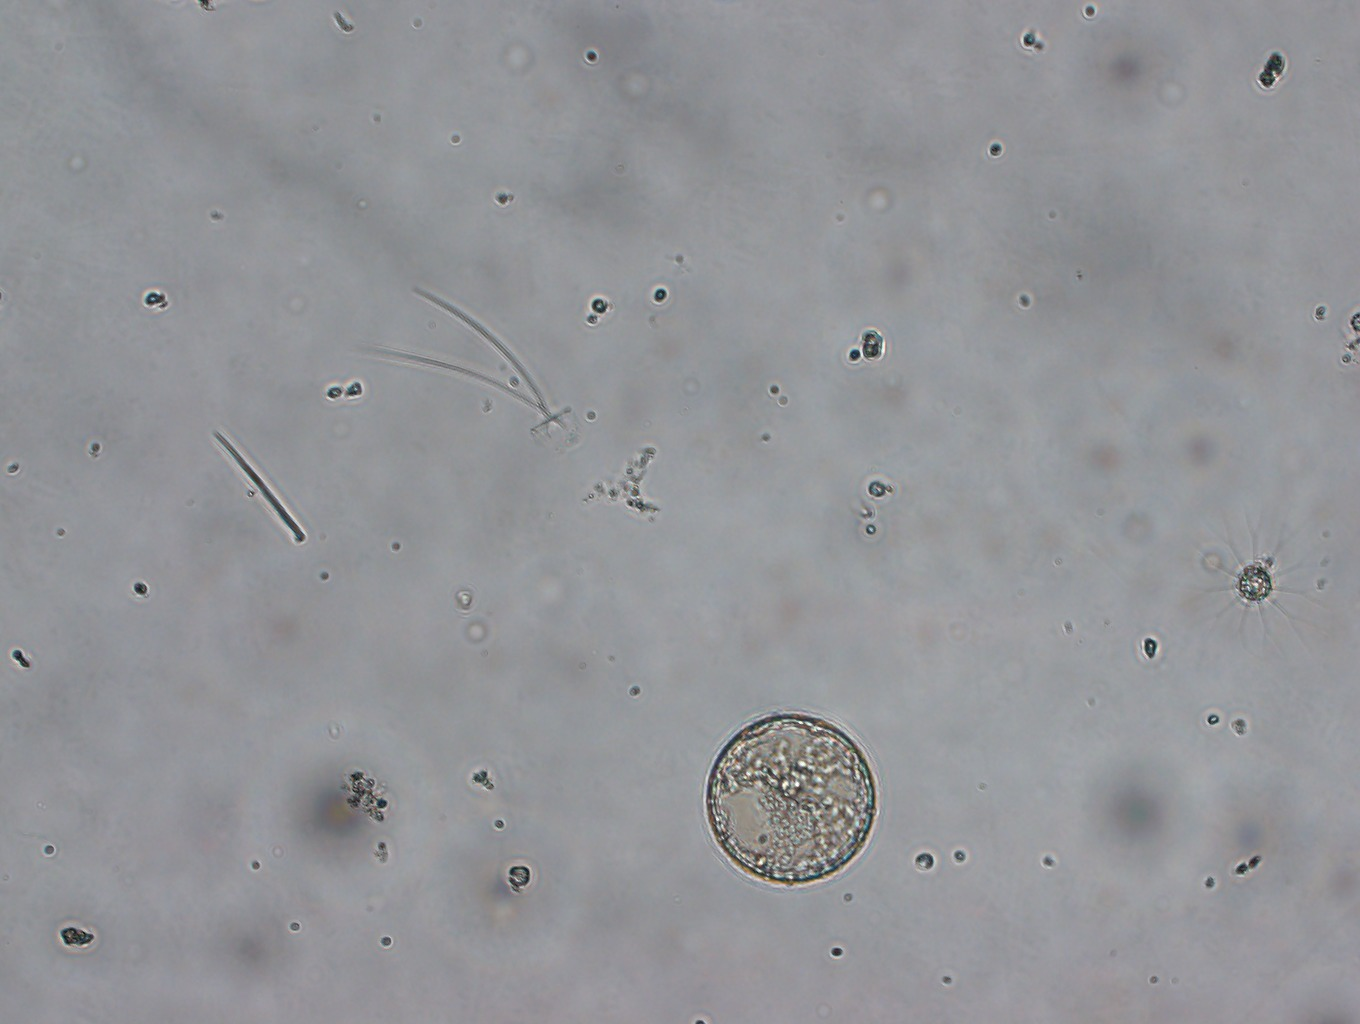coscinodiscus: (699, 706, 881, 891)
